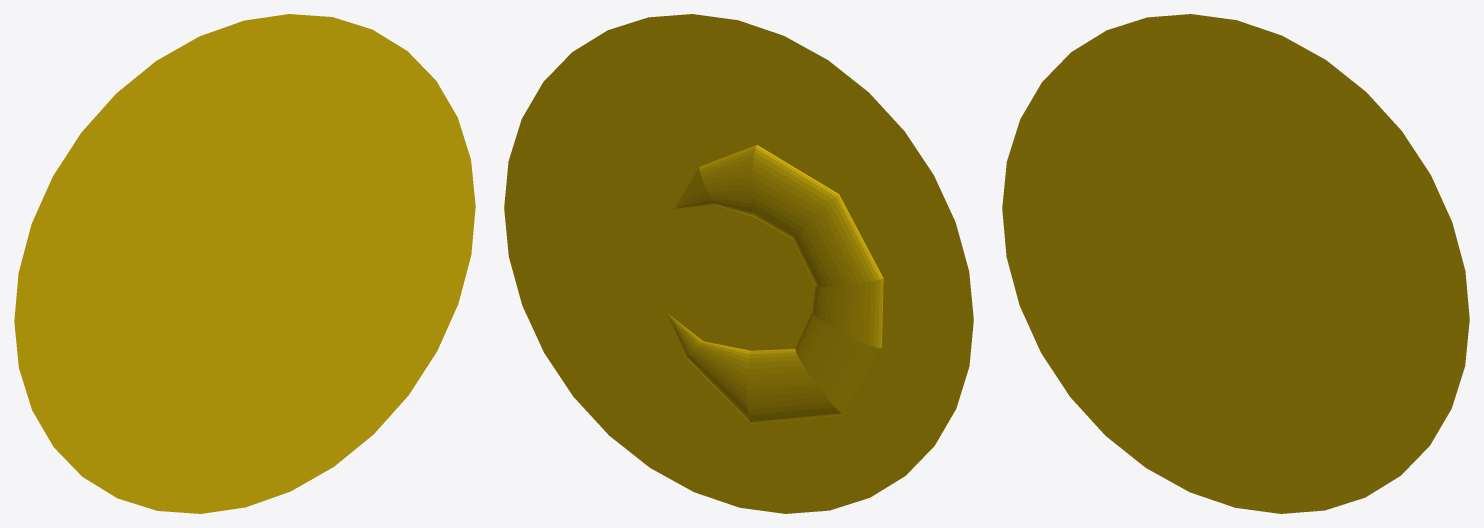
The model's file is moon.fbx.
The picture shows the model from 3 angles, left to right: view 1: azimuth 30°, elevation 25°; view 2: azimuth 150°, elevation 25°; view 3: azimuth 330°, elevation 25°; orthographic projection.
Parts seen in each view (by area): view 1: 円錐.001; view 2: 円錐.001; view 3: 円錐.001.
Part boxes in pixels (x1,y1,x2,y2): 円錐.001: (14, 14, 475, 513); 円錐.001: (504, 14, 973, 513); 円錐.001: (1002, 14, 1469, 513).
Size of the model in its own units: 754 by 754 by 49.08.
